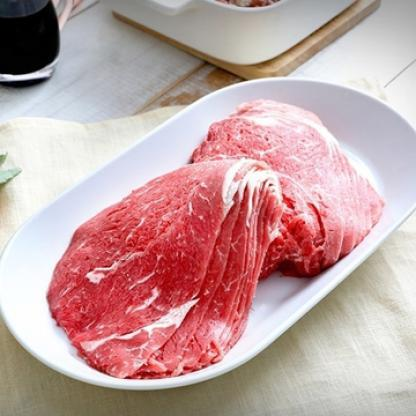beef: (73, 104, 378, 370)
